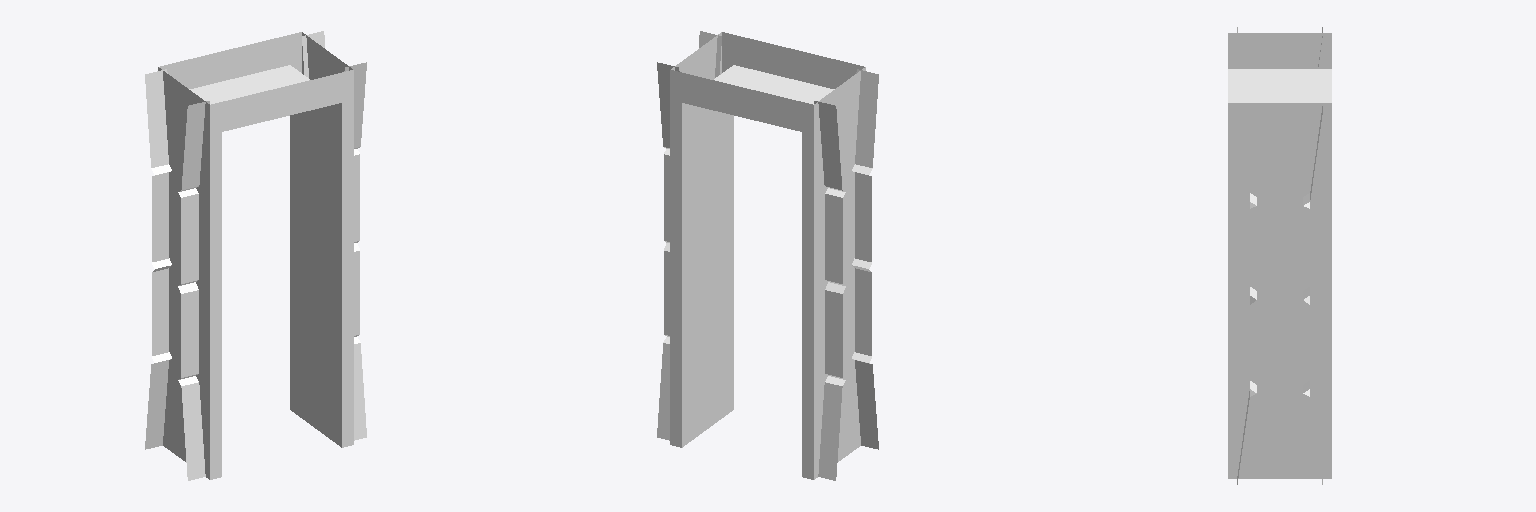
The model's file is Door_Frame.obj.
3 views of the same model, side by side, from view 1: azimuth 30°, elevation 25°; view 2: azimuth 150°, elevation 25°; view 3: azimuth 270°, elevation 25° (orthographic).
Parts seen in each view (by area): view 1: Door_Frame, Wall_Piece; view 2: Door_Frame, Wall_Piece; view 3: Door_Frame, Wall_Piece.
Part boxes in pixels (x1,y1,x2,y2): Door_Frame: (158,32,353,479); Wall_Piece: (145,31,366,480); Door_Frame: (670,32,865,479); Wall_Piece: (657,31,878,480); Door_Frame: (1228,33,1331,478); Wall_Piece: (1237,27,1322,484).
Size of the model in its own units: 200 by 400 by 100.